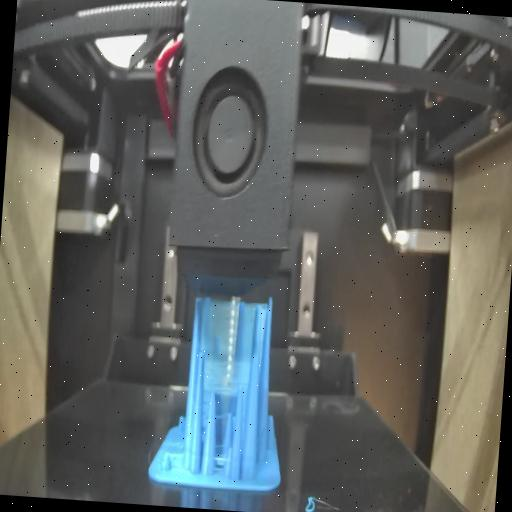stringing: (196, 302, 265, 394), (210, 406, 234, 476)
